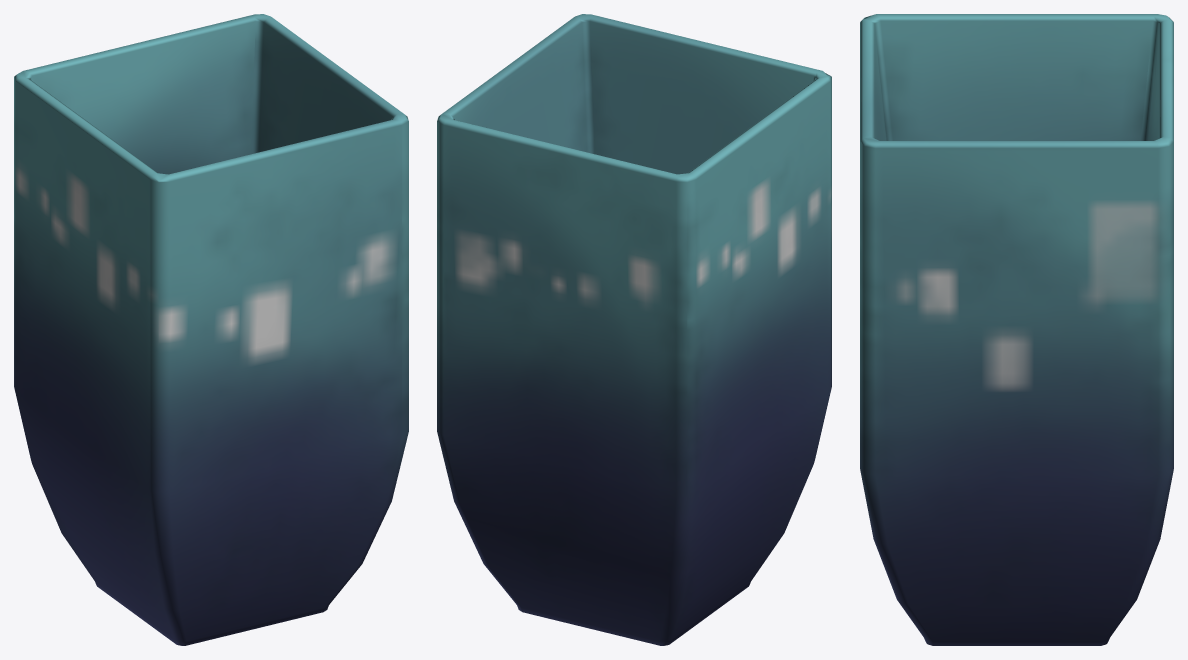
File: Pot_2.fbx
The picture shows the model from 3 angles, left to right: view 1: azimuth 30°, elevation 25°; view 2: azimuth 150°, elevation 25°; view 3: azimuth 270°, elevation 25°; orthographic projection. The views are drawn at different scales.
Parts seen in each view (by area): view 1: Pot_2; view 2: Pot_2; view 3: Pot_2.
Part boxes in pixels (x1,y1,x2,y2): Pot_2: (14,14,408,645); Pot_2: (437,14,831,645); Pot_2: (860,14,1173,645).
Bounding box in the file's own units: 37.02 × 69.12 × 37.02.
